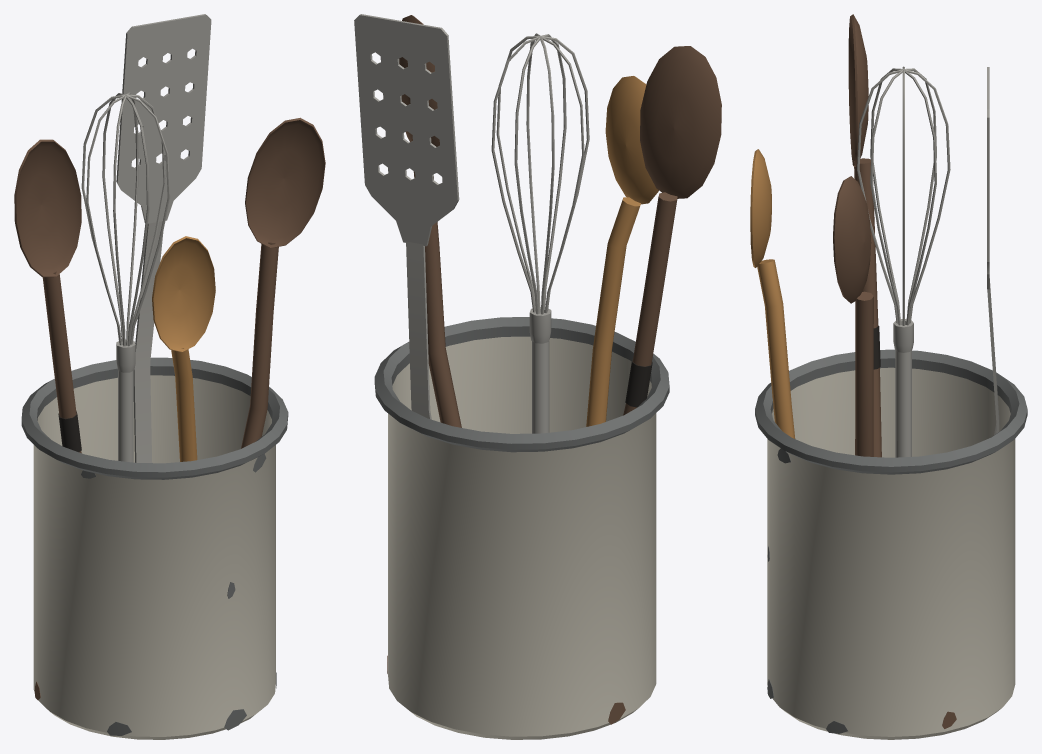
File: kitchen-utensil-holder-8fdb69d3cce1.glb
3 views of the same model, side by side, from view 1: azimuth 30°, elevation 25°; view 2: azimuth 150°, elevation 25°; view 3: azimuth 270°, elevation 25° (orthographic). The views are drawn at different scales.
Parts seen in each view (by area): view 1: enamel, brushed, wood, metal, food-cake, cone-paper; view 2: enamel, brushed, wood, metal, food-cake, cone-paper; view 3: enamel, wood, metal, brushed, food-cake.
Part boxes in pixels (left/top/right/bottom): enamel: left=33, top=375, right=275, bottom=739; brushed: left=81, top=14, right=211, bottom=462; wood: left=14, top=117, right=325, bottom=699; metal: left=21, top=357, right=288, bottom=735; food-cake: left=152, top=236, right=215, bottom=461; cone-paper: left=58, top=411, right=81, bottom=452; enamel: left=388, top=336, right=656, bottom=739; brushed: left=354, top=14, right=589, bottom=433; wood: left=387, top=15, right=721, bottom=724; metal: left=374, top=317, right=669, bottom=452; food-cake: left=586, top=76, right=658, bottom=426; cone-paper: left=625, top=358, right=652, bottom=407; enamel: left=767, top=367, right=1015, bottom=739; wood: left=833, top=14, right=956, bottom=728; metal: left=755, top=349, right=1027, bottom=733; brushed: left=857, top=66, right=999, bottom=457; food-cake: left=750, top=149, right=795, bottom=438.
Size of the model in its own units: 0.1729 by 0.3395 by 0.1342.
